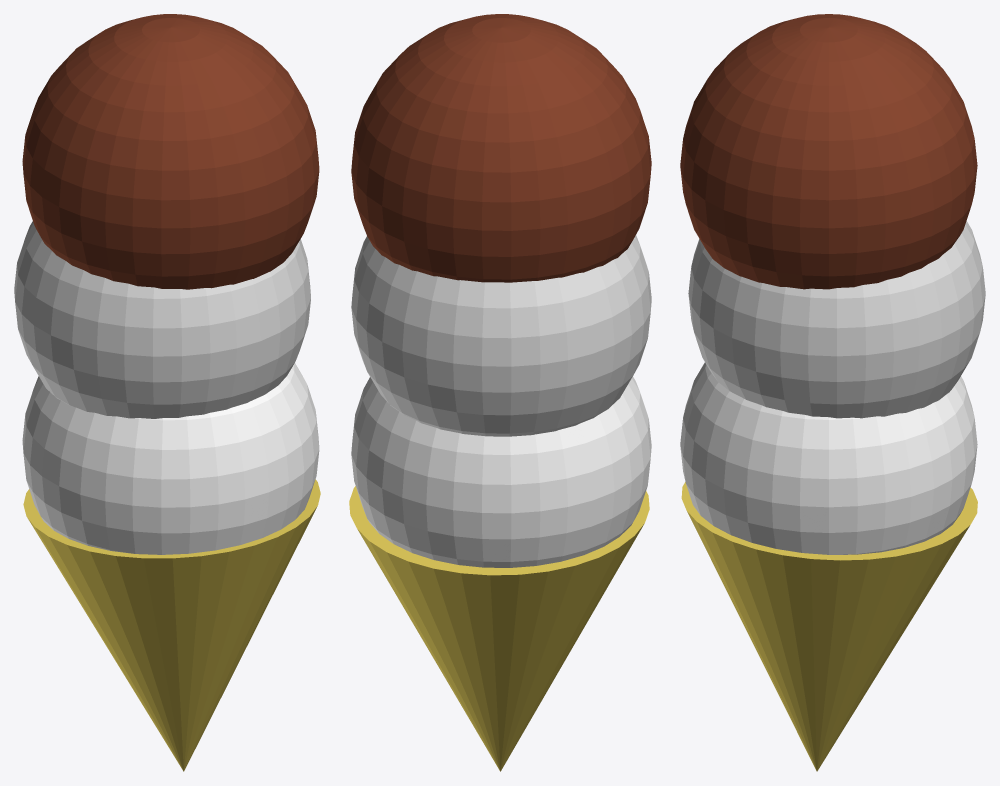
File: creamy.gltf
3 renders of one model, left to right at view 1: azimuth 30°, elevation 25°; view 2: azimuth 150°, elevation 25°; view 3: azimuth 270°, elevation 25°, orthographic.
Parts seen in each view (by area): view 1: Sphere.002, Sphere, Sphere.001, Cone; view 2: Sphere.002, Sphere.001, Sphere, Cone; view 3: Sphere.002, Sphere, Sphere.001, Cone.
Part boxes in pixels (<box>): Sphere.002: <box>22,14,319,289</box>; Sphere: <box>22,363,319,554</box>; Sphere.001: <box>14,221,310,418</box>; Cone: <box>23,479,320,771</box>; Sphere.002: <box>351,14,651,282</box>; Sphere.001: <box>351,235,651,436</box>; Sphere: <box>351,376,651,567</box>; Cone: <box>349,486,649,771</box>; Sphere.002: <box>680,14,977,289</box>; Sphere: <box>680,362,977,554</box>; Sphere.001: <box>688,221,985,418</box>; Cone: <box>681,482,977,771</box>.
Size of the model in its own units: 2.04 by 5.5 by 2.06.
